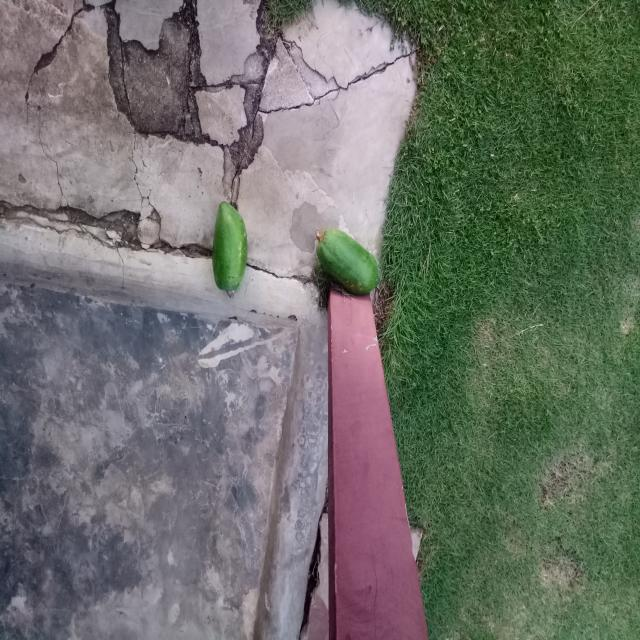Pepaya unrippen: (313, 229, 378, 296), (204, 198, 249, 294)
